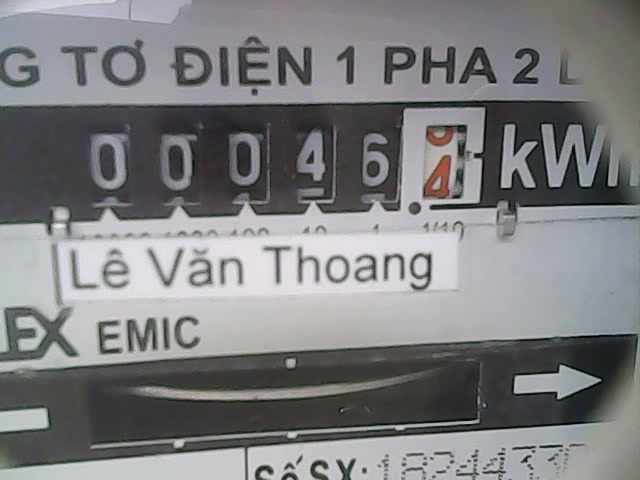phy_plate: (66, 98, 491, 214)
